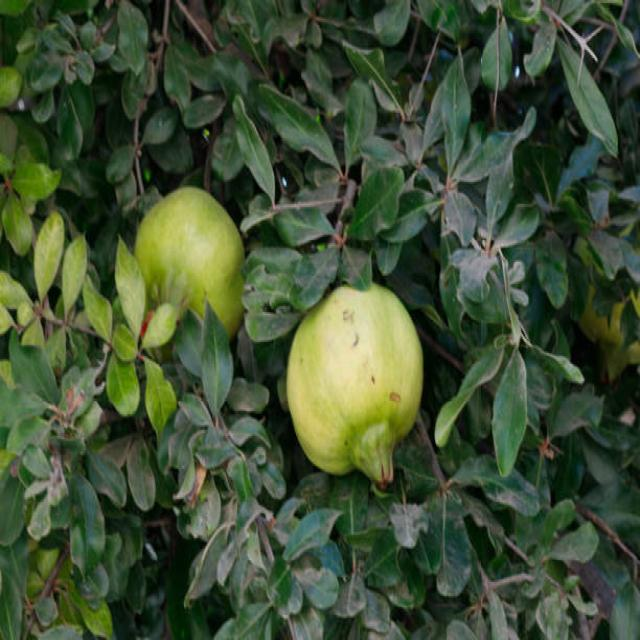Unripe: (288, 276, 421, 488)
